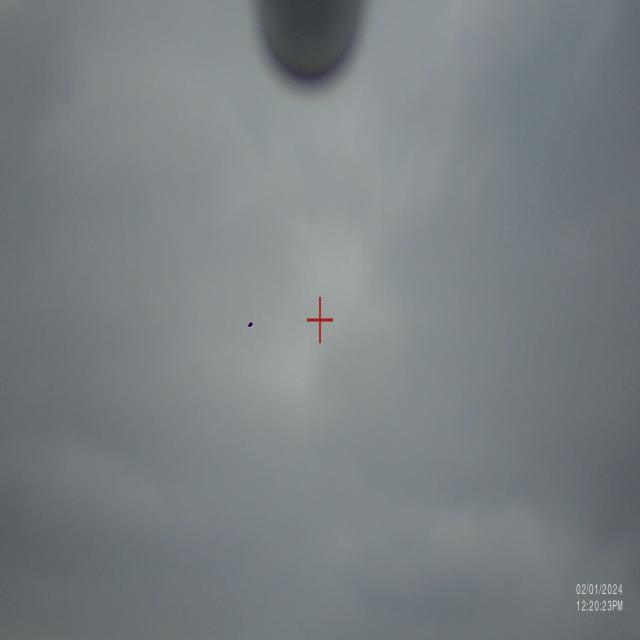entire: (242, 310, 258, 332)
